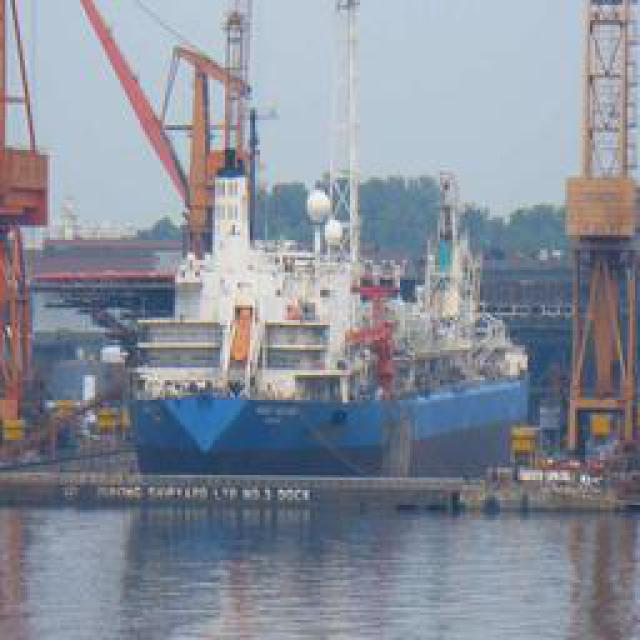Ship: (54, 1, 537, 486)
